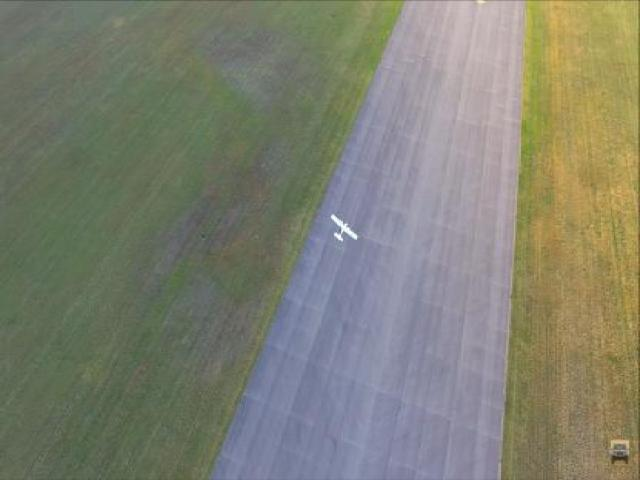uav: (332, 212, 357, 243)
